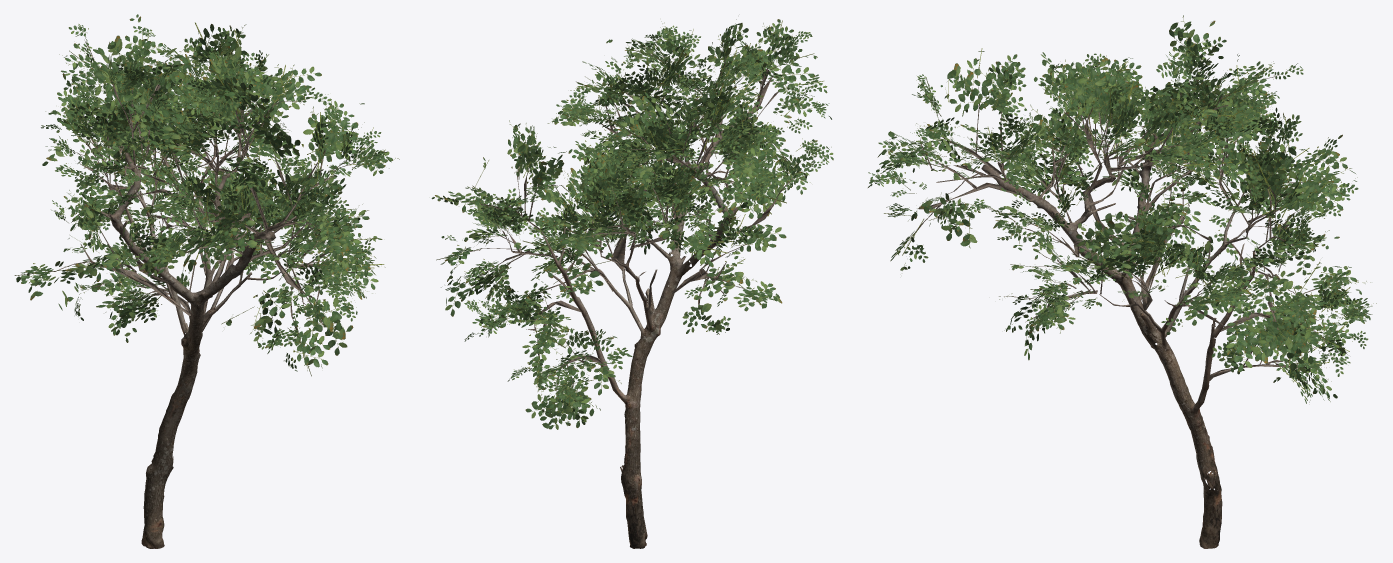
3 renders of one model, left to right at view 1: azimuth 30°, elevation 25°; view 2: azimuth 150°, elevation 25°; view 3: azimuth 270°, elevation 25°, orthographic. The views are drawn at different scales.
Visible parts, largest first — view 1: tree; view 2: tree; view 3: tree.
Part boxes in pixels (x1,y1,x2,y2): tree: (14, 14, 399, 548); tree: (431, 19, 833, 548); tree: (868, 15, 1376, 548).
Size of the model in its own units: 2.97 by 4.63 by 4.32.
3 materials, 3 textured.
